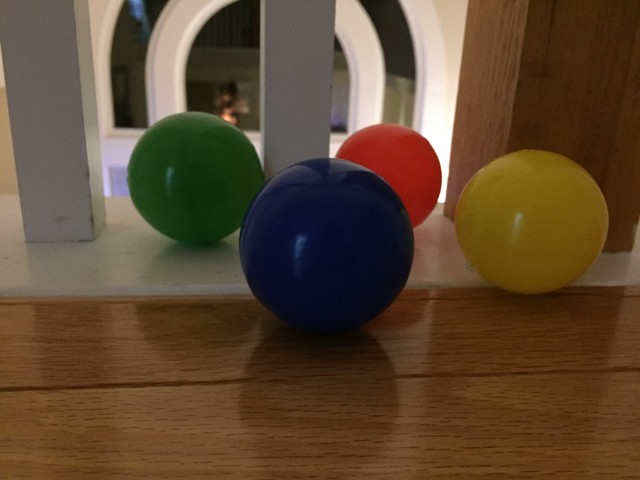Ball: (456, 148, 608, 296)
